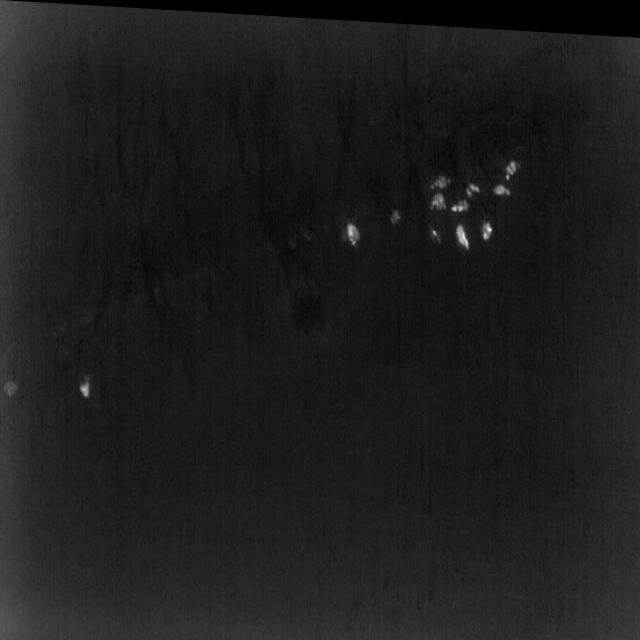deer: (456, 218, 470, 244), (429, 186, 447, 205), (2, 379, 18, 399), (346, 218, 359, 242), (429, 171, 449, 185), (506, 155, 518, 174), (452, 194, 470, 206), (466, 177, 480, 192), (493, 178, 511, 189), (482, 216, 492, 234), (80, 381, 90, 398), (391, 204, 402, 219), (432, 225, 441, 239)
